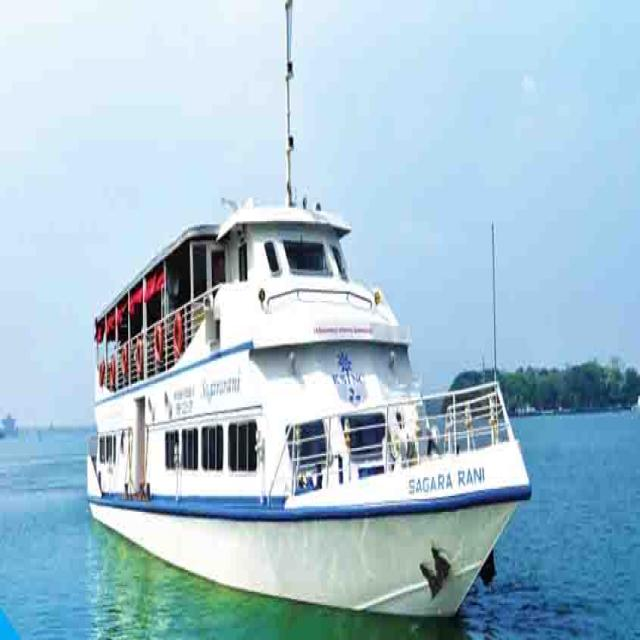houseboat: (88, 193, 512, 628)
